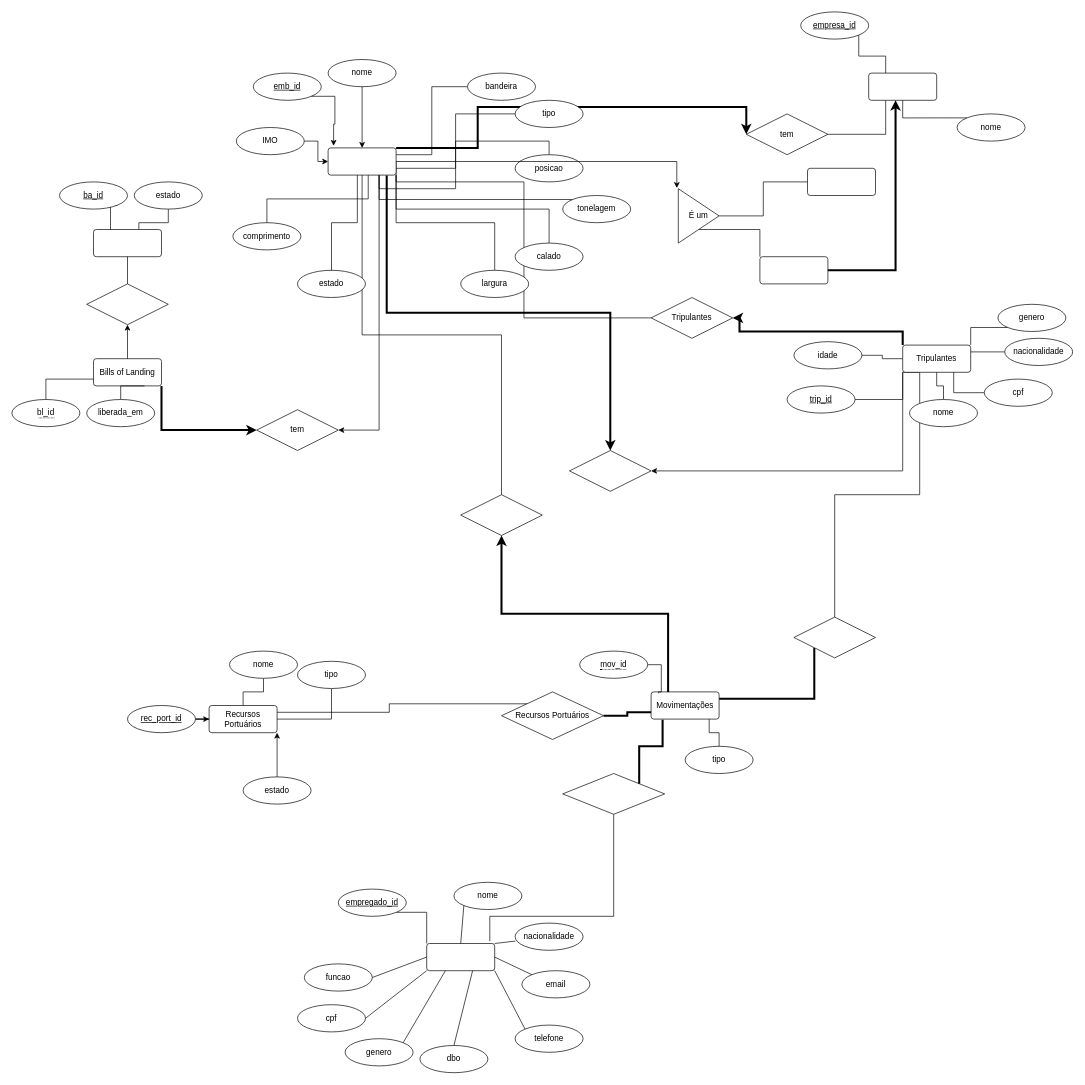
The diagram is 1085 pixels wide and 1085 high, and some of its shapes have lost their labels. The box of each missing label's shape, as (x1, y1, x2, y2) in pixels:
Berços de Atracação: (93, 229, 162, 257)
Comandante: (569, 450, 651, 491)
Embarcacao com carga de terceiros: (759, 256, 828, 284)
Embarcacao com carga propria: (807, 168, 876, 196)
Embarcações: (327, 147, 396, 175)
Empregados: (426, 943, 495, 971)
Empresas: (868, 72, 937, 100)
Equipes: (793, 616, 876, 658)
Movimentacao: (460, 494, 542, 536)
Ocupada: (86, 283, 168, 325)
Recursos Humanos: (562, 773, 665, 814)
